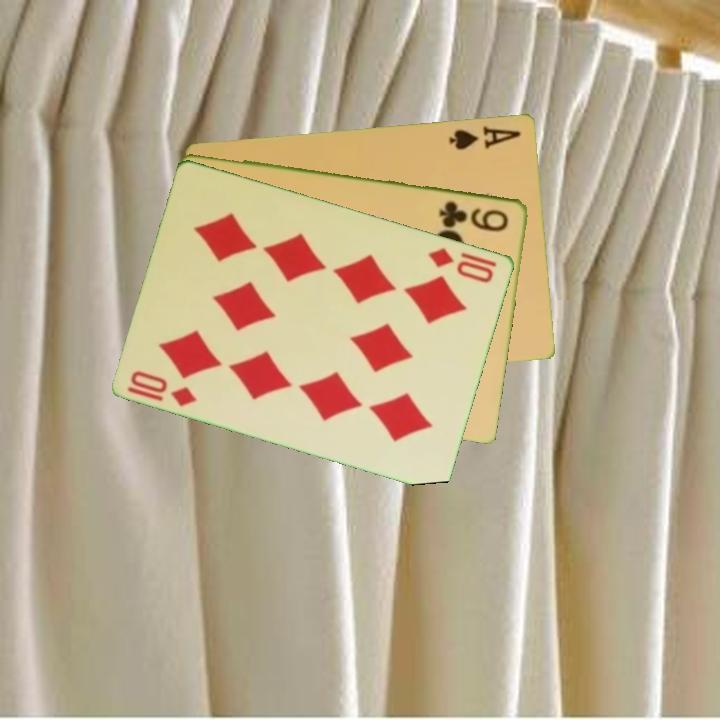10d: (127, 366, 201, 409), (424, 244, 497, 285)
9c: (436, 197, 512, 234)
As: (446, 122, 524, 152)
